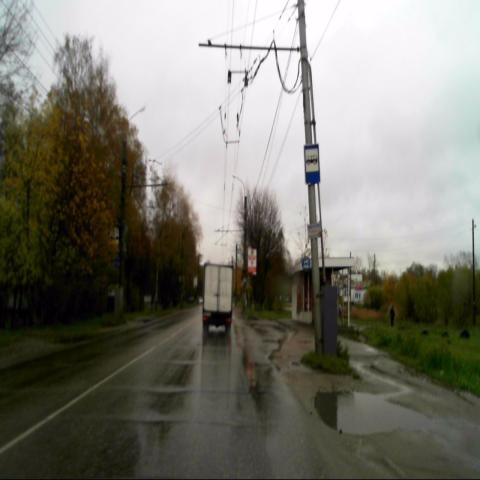5_16: (304, 144, 320, 184)
